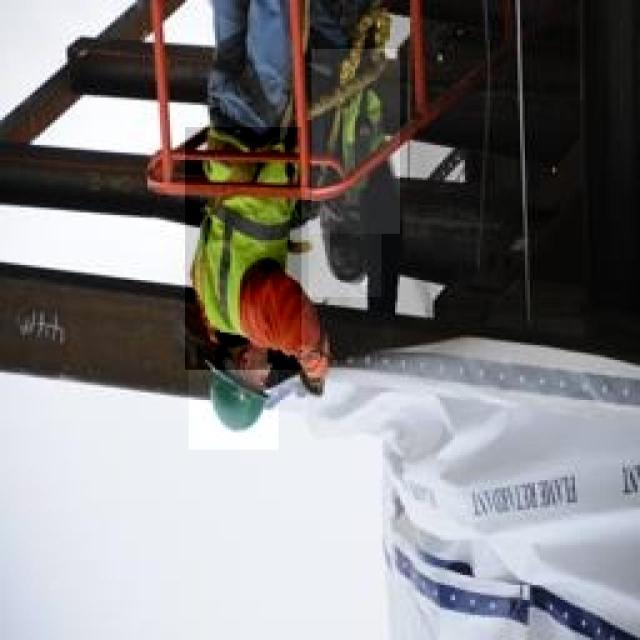Helmet: (188, 337, 278, 450), (308, 210, 382, 297)
Safety Vest: (185, 127, 301, 370), (312, 49, 400, 234)
